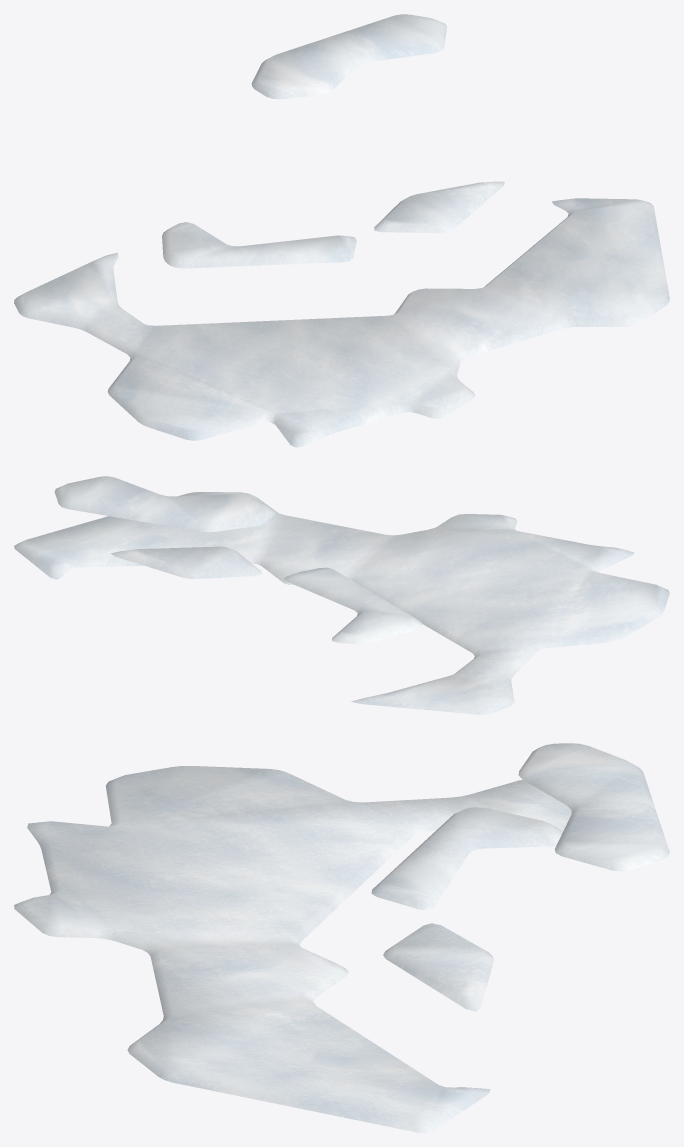
File: Ice_02_Snow.fbx
3 views of the same model, one above another, from view 1: azimuth 30°, elevation 25°; view 2: azimuth 150°, elevation 25°; view 3: azimuth 270°, elevation 25° (orthographic). The views are drawn at different scales.
Visible parts, largest first — view 1: Ice_02_Snow; view 2: Ice_02_Snow; view 3: Ice_02_Snow.
Boxes of the visible parts, <box> form: Ice_02_Snow: <box>14,14,669,447</box>; Ice_02_Snow: <box>14,476,669,714</box>; Ice_02_Snow: <box>14,743,669,1132</box>.
Bounding box in the file's own units: 1396 × 1062 × 344.
